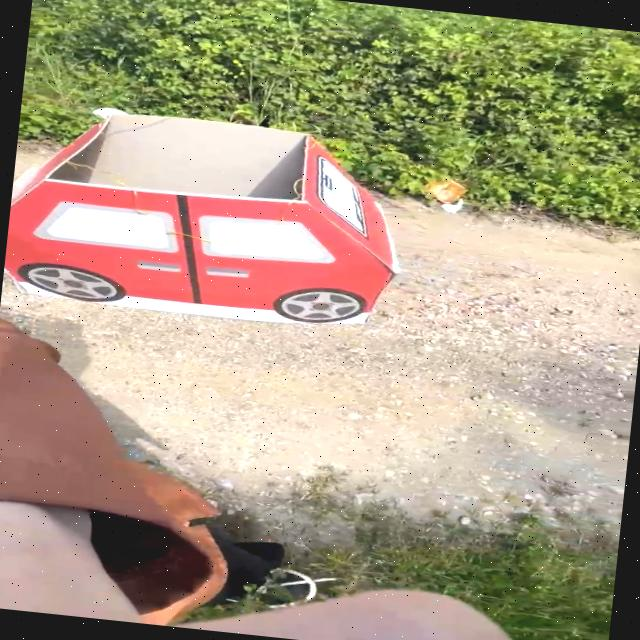red_car: (1, 85, 444, 340)
